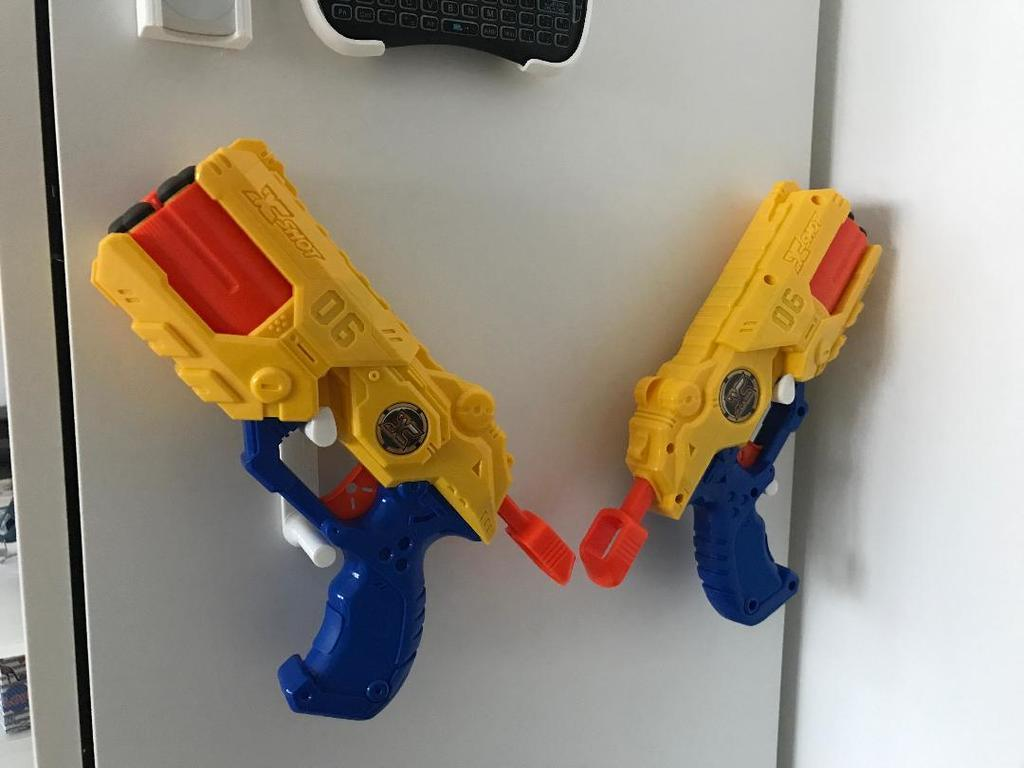Arma Falsa: (85, 128, 580, 725), (580, 178, 893, 621)
